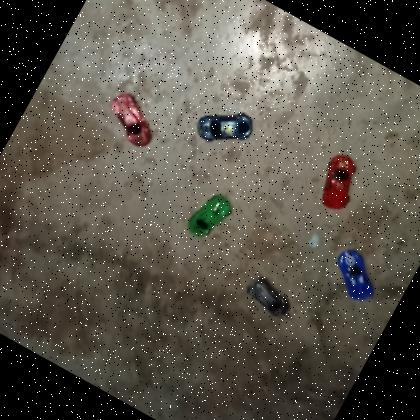Car: (322, 242, 390, 310), (190, 95, 260, 161), (306, 147, 370, 218), (97, 88, 166, 153), (182, 186, 238, 248)
